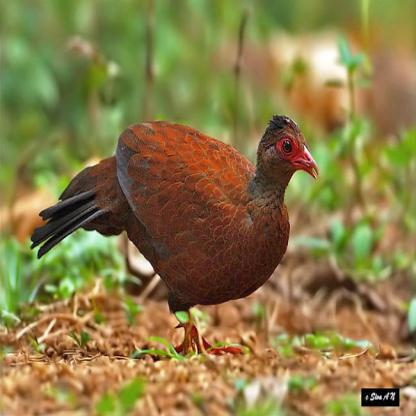Burung: (26, 110, 320, 361)
